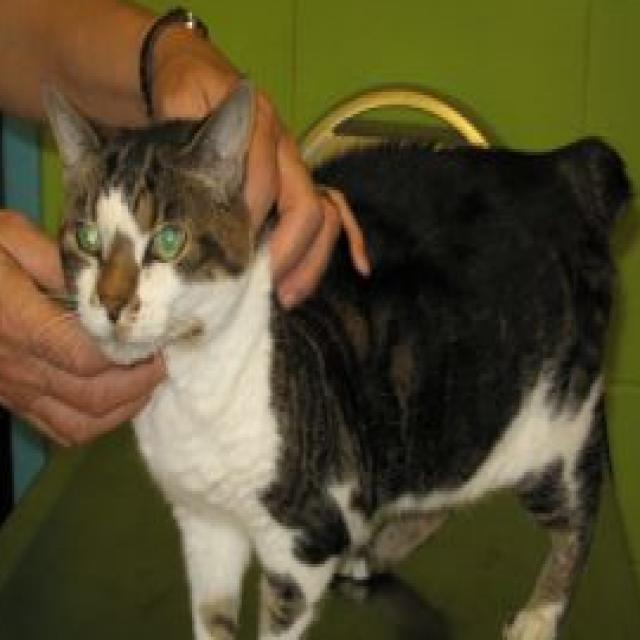American Bobtail: (38, 69, 640, 640)
